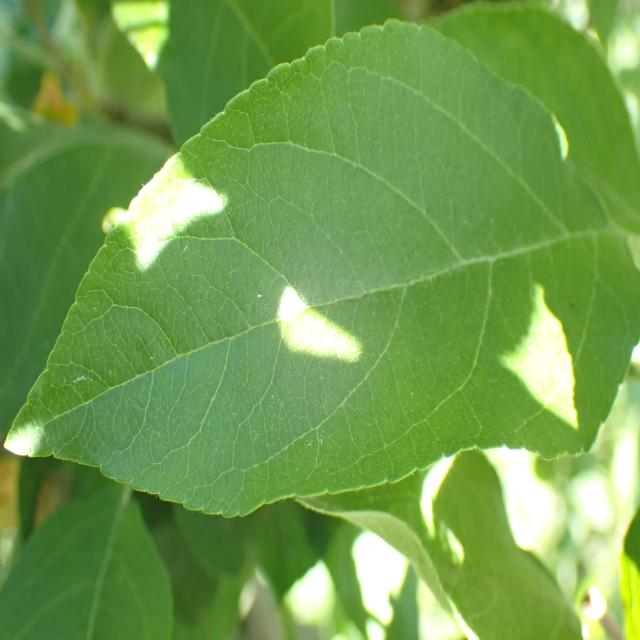healthy: (2, 17, 640, 518), (294, 446, 587, 640), (0, 492, 174, 640)
